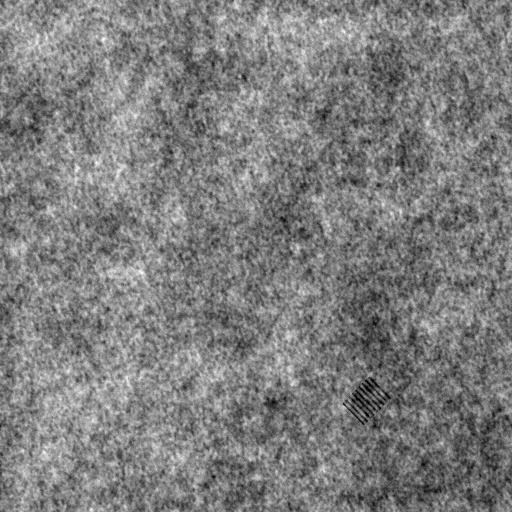DefectTypeB: (341, 375, 387, 422)
